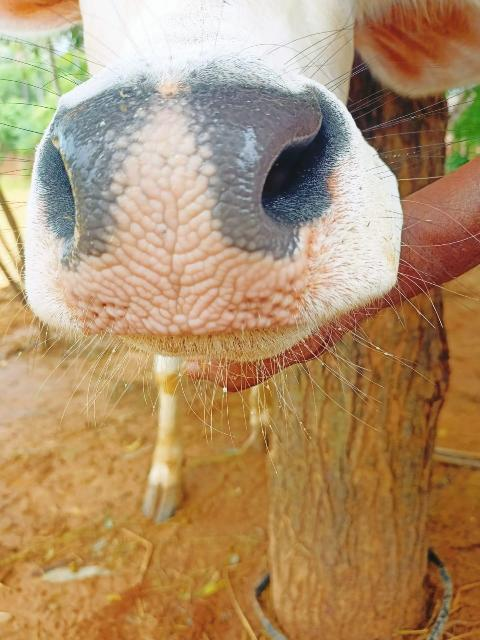Muzzle: (63, 100, 269, 336)
